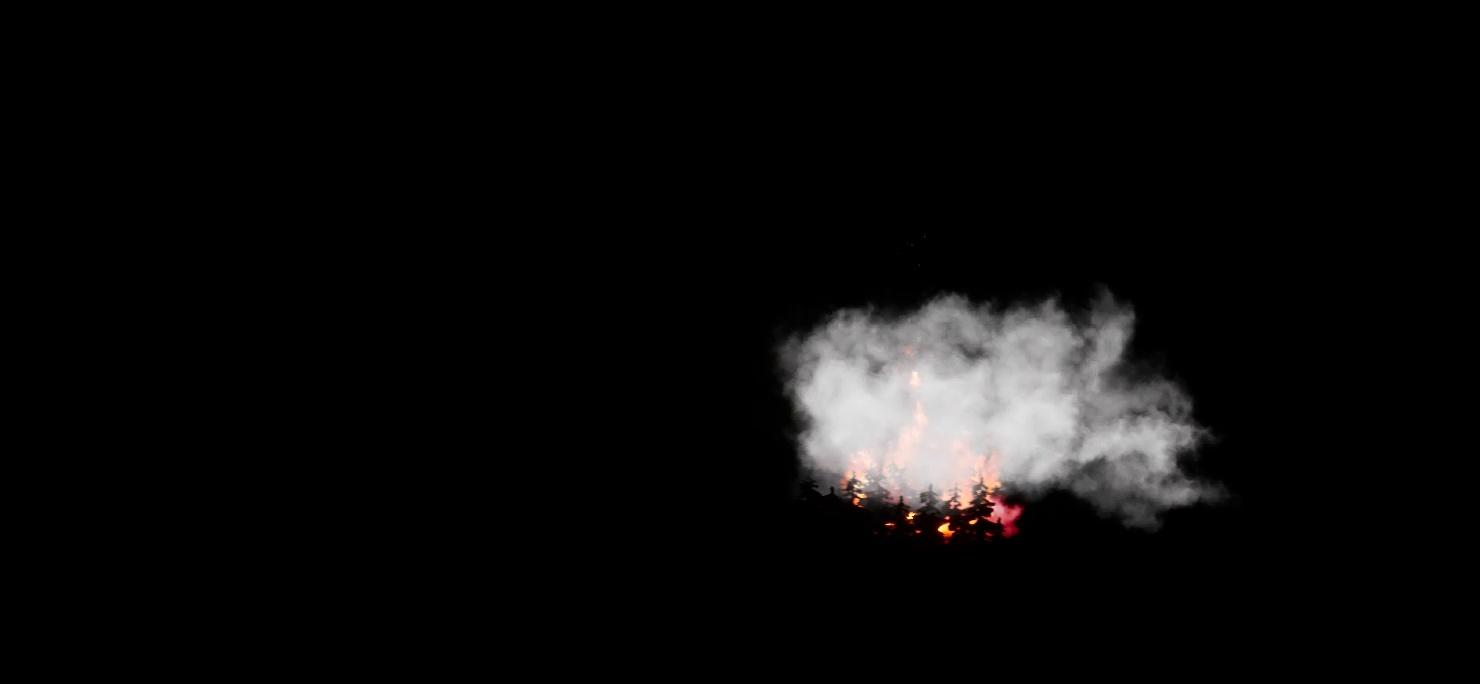fire: (834, 414, 1016, 540)
smoke: (777, 286, 1211, 532)
